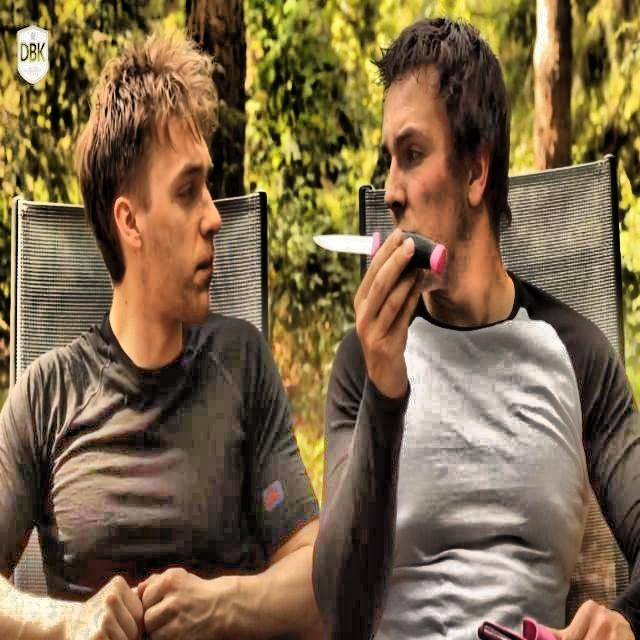knife: (316, 234, 450, 274)
